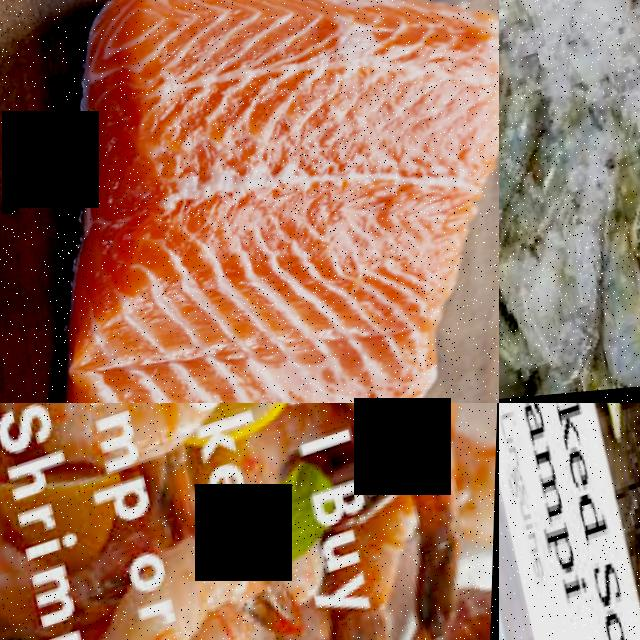salmon: (0, 0, 499, 403)
shrimp: (277, 403, 499, 514), (499, 46, 561, 232), (577, 221, 640, 396)
